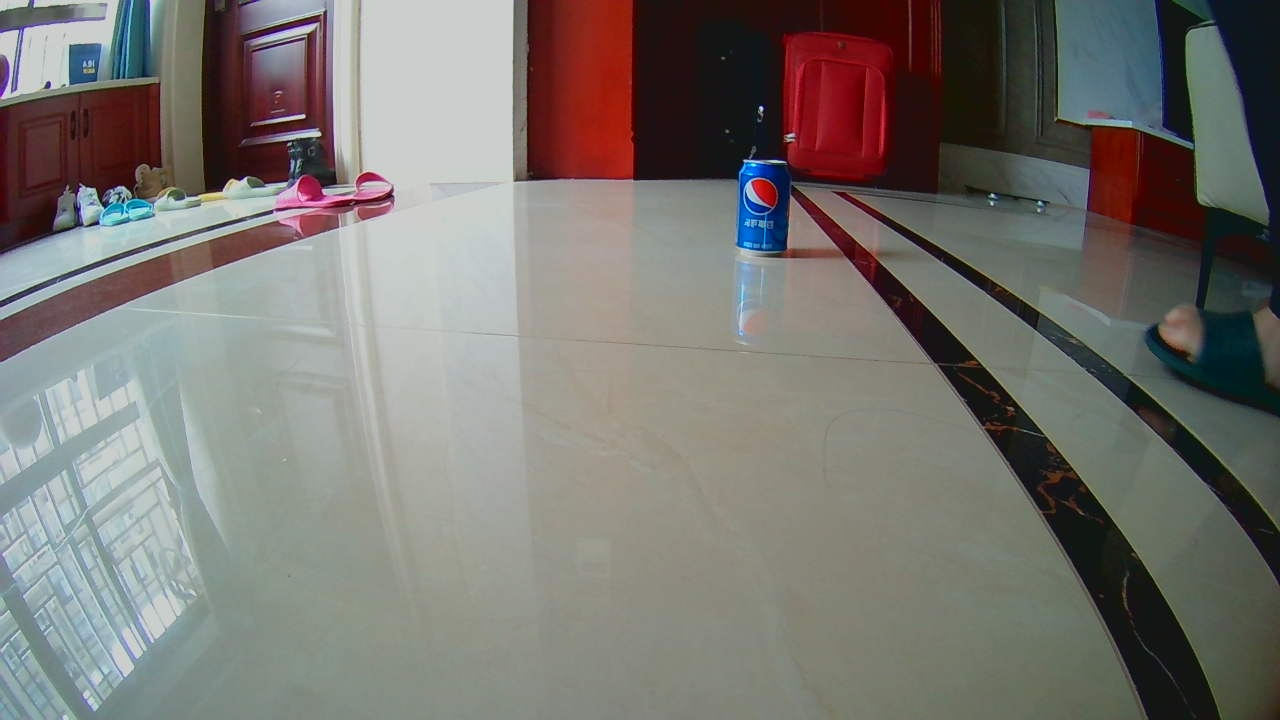pessi: (740, 161, 787, 254)
